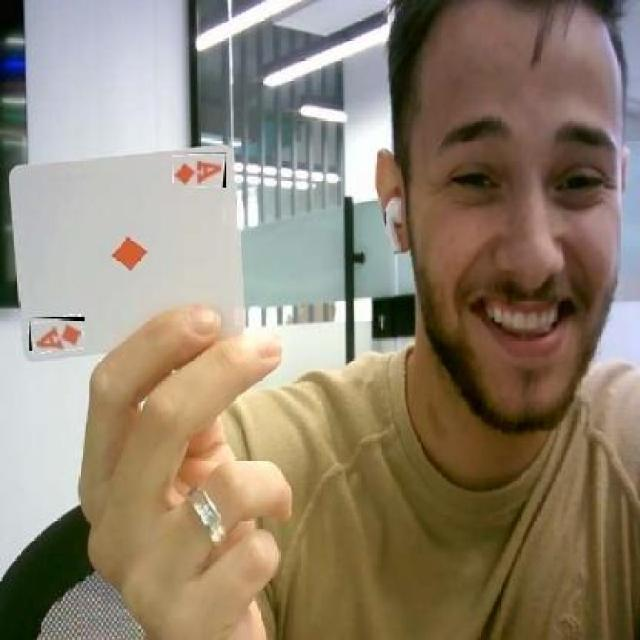AD: (29, 316, 85, 352), (174, 152, 226, 188)
